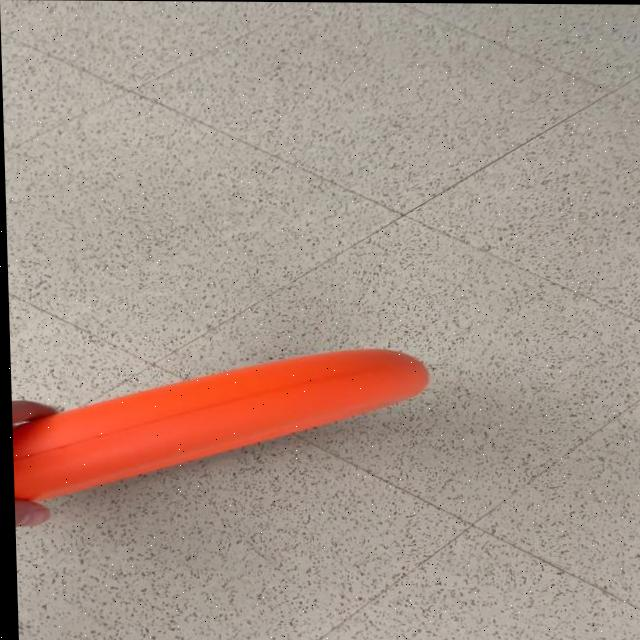note: (10, 345, 433, 506)
